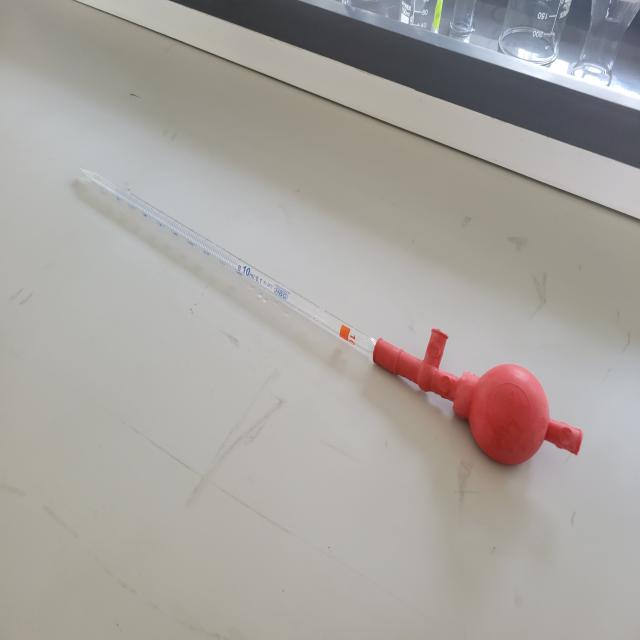Volumetric_Pipet: (48, 123, 603, 538)
